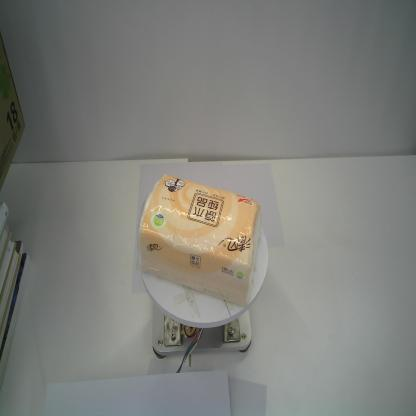Tissue: (135, 172, 263, 309)
